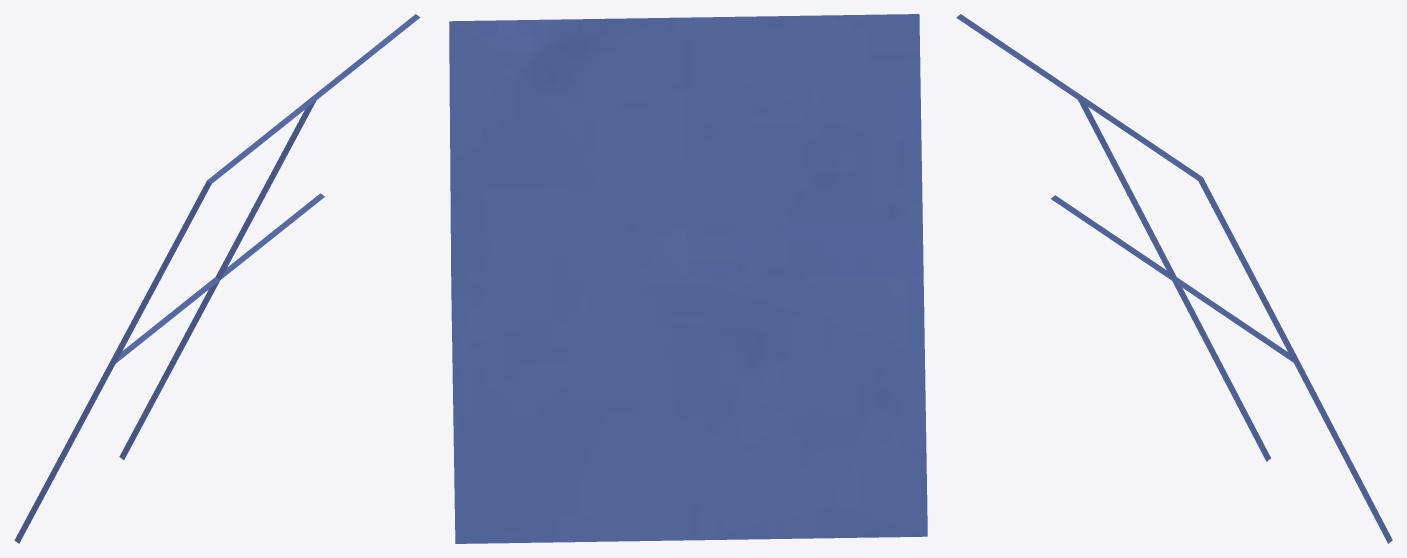
3 views of the same model, side by side, from view 1: azimuth 30°, elevation 25°; view 2: azimuth 150°, elevation 25°; view 3: azimuth 270°, elevation 25° (orthographic). The views are drawn at different scales.
Size of the model in its own units: 19645 by 17712 by 16903.
Materials: 1 (1 with a texture image).
